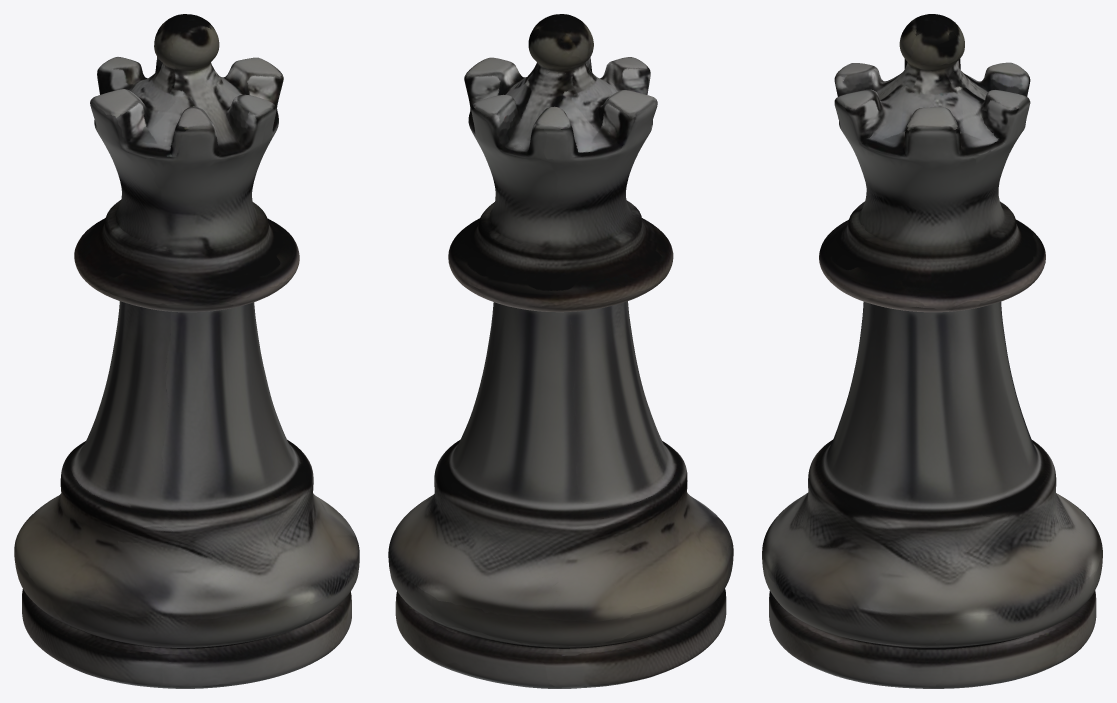
Rendered from queen.glb.
The picture shows the model from 3 angles, left to right: view 1: azimuth 30°, elevation 25°; view 2: azimuth 150°, elevation 25°; view 3: azimuth 270°, elevation 25°; orthographic projection.
Parts seen in each view (by area): view 1: tmpr_wtm4_h.ply; view 2: tmpr_wtm4_h.ply; view 3: tmpr_wtm4_h.ply.
Boxes of the visible parts, left/top/right/bottom form: tmpr_wtm4_h.ply: left=14, top=14, right=359, bottom=688; tmpr_wtm4_h.ply: left=388, top=14, right=733, bottom=688; tmpr_wtm4_h.ply: left=762, top=14, right=1102, bottom=688.
Bounding box in the file's own units: 1.03 × 1.99 × 1.02.
1 material, 1 textured.
